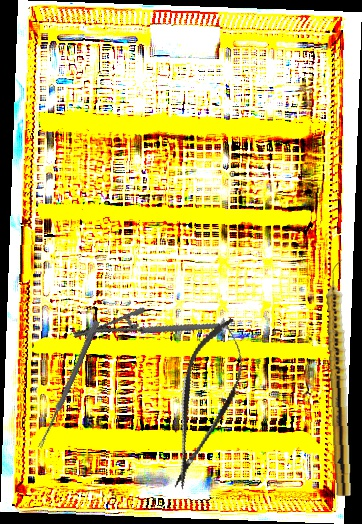Handpiece: (323, 258, 357, 498)
Micro Scissor: (152, 310, 258, 497)
Needle Holder: (71, 282, 230, 379)
Surgical Spoon: (37, 319, 100, 450)
